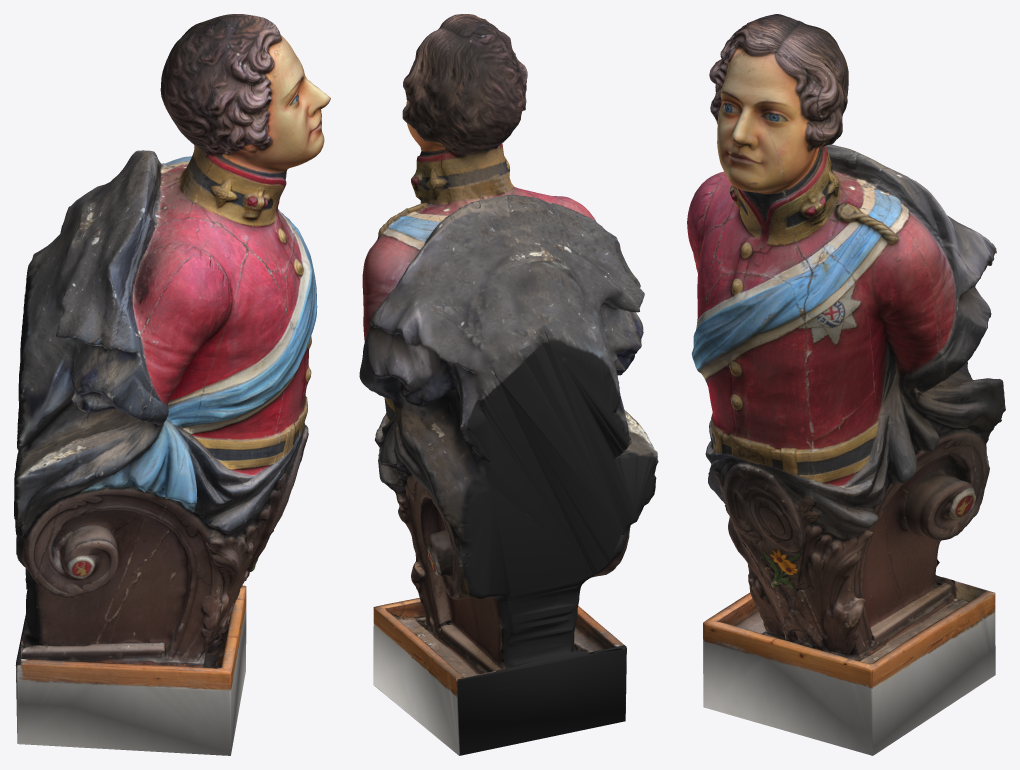
3 views of the same model, side by side, from view 1: azimuth 30°, elevation 25°; view 2: azimuth 150°, elevation 25°; view 3: azimuth 270°, elevation 25° (orthographic). The views are drawn at different scales.
Size of the model in its own units: 1.51 by 3.51 by 1.43.
1 material, 1 textured.
